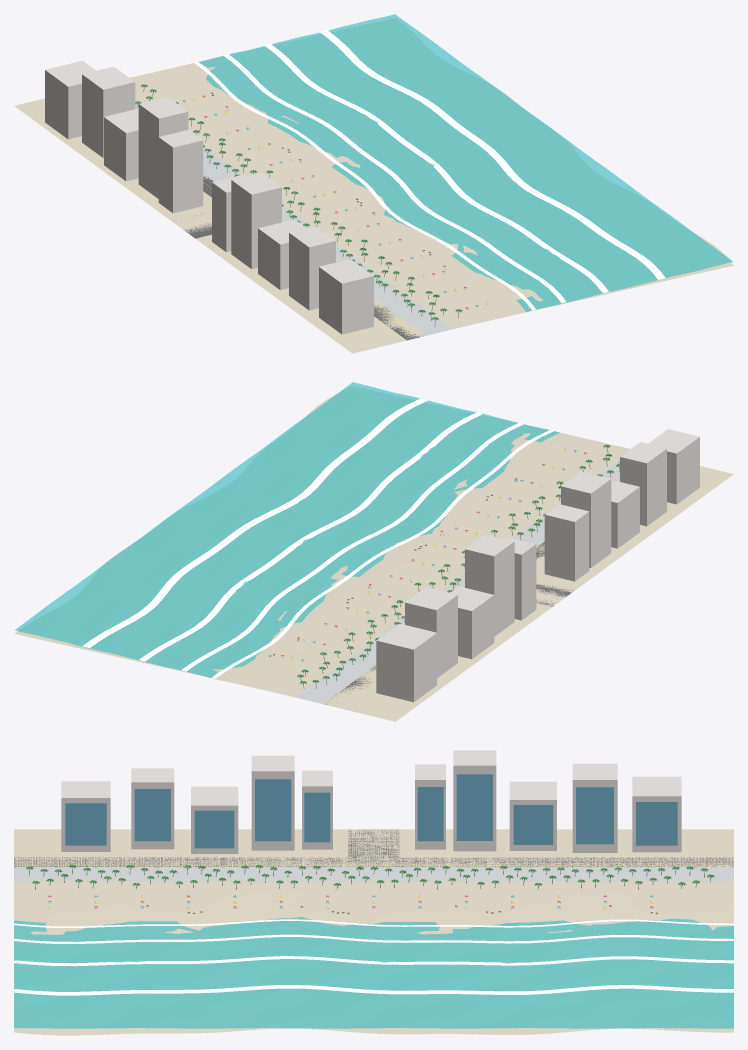
Rendered from my-khe-beach.glb.
3 views of the same model, one above another, from view 1: azimuth 30°, elevation 25°; view 2: azimuth 150°, elevation 25°; view 3: azimuth 270°, elevation 25° (orthographic). The views are drawn at different scales.
Visible parts, largest first — view 1: my-khe_sand-terrain, my-khe_ocean-water, my-khe_resorts, my-khe_wave-foam, my-khe_park-plaza, my-khe_palm-leaves, my-khe_boulevard; view 2: my-khe_sand-terrain, my-khe_ocean-water, my-khe_resorts, my-khe_wave-foam, my-khe_park-plaza, my-khe_palm-leaves, my-khe_boulevard; view 3: my-khe_sand-terrain, my-khe_ocean-water, my-khe_resort-glass, my-khe_resorts, my-khe_park-plaza, my-khe_wave-foam, my-khe_boulevard, my-khe_palm-leaves, my-khe_palm-trunks.
Boxes of the visible parts, <box> form: my-khe_sand-terrain: <box>14,18,733,353</box>; my-khe_ocean-water: <box>199,14,732,311</box>; my-khe_resorts: <box>45,60,373,334</box>; my-khe_wave-foam: <box>194,30,665,310</box>; my-khe_park-plaza: <box>135,97,452,335</box>; my-khe_palm-leaves: <box>135,84,462,320</box>; my-khe_boulevard: <box>176,176,423,340</box>; my-khe_sand-terrain: <box>14,386,733,721</box>; my-khe_ocean-water: <box>15,382,559,680</box>; my-khe_resorts: <box>376,429,699,702</box>; my-khe_wave-foam: <box>82,398,553,678</box>; my-khe_park-plaza: <box>295,460,619,703</box>; my-khe_palm-leaves: <box>297,444,619,684</box>; my-khe_boulevard: <box>324,542,573,704</box>; my-khe_sand-terrain: <box>14,829,733,1035</box>; my-khe_ocean-water: <box>14,917,733,1028</box>; my-khe_resort-glass: <box>65,774,677,848</box>; my-khe_resorts: <box>61,750,681,853</box>; my-khe_park-plaza: <box>14,867,733,881</box>; my-khe_wave-foam: <box>14,919,733,995</box>; my-khe_boulevard: <box>14,829,733,867</box>; my-khe_palm-leaves: <box>26,864,714,886</box>; my-khe_palm-trunks: <box>29,866,710,889</box>.
Size of the model in its own units: 462 by 97.7 by 700.
